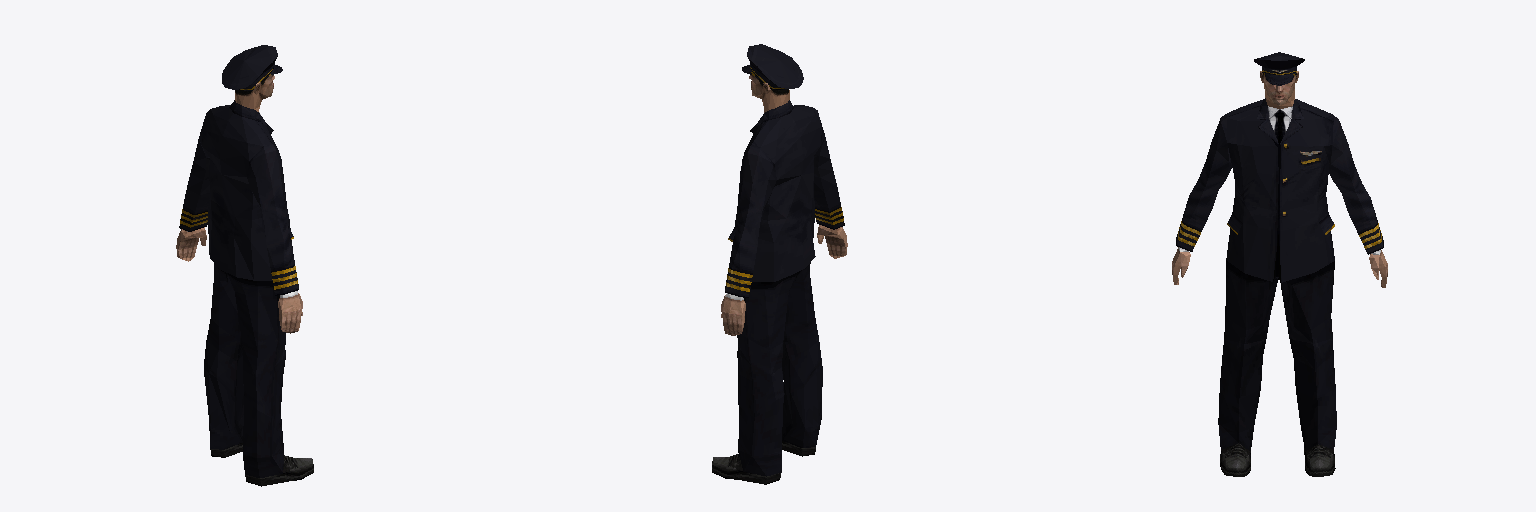
3 views of the same model, side by side, from view 1: azimuth 30°, elevation 25°; view 2: azimuth 150°, elevation 25°; view 3: azimuth 270°, elevation 25° (orthographic).
Parts seen in each view (by area): view 1: _Pelvis; view 2: _Pelvis; view 3: _Pelvis.
Boxes of the visible parts, box(x1,y1,x2,y2) form: _Pelvis: box(176, 45, 313, 486); _Pelvis: box(712, 44, 847, 484); _Pelvis: box(1172, 52, 1387, 476).
Size of the model in its own units: 0.3399 by 1.84 by 0.8757.
1 materials, 1 textured.